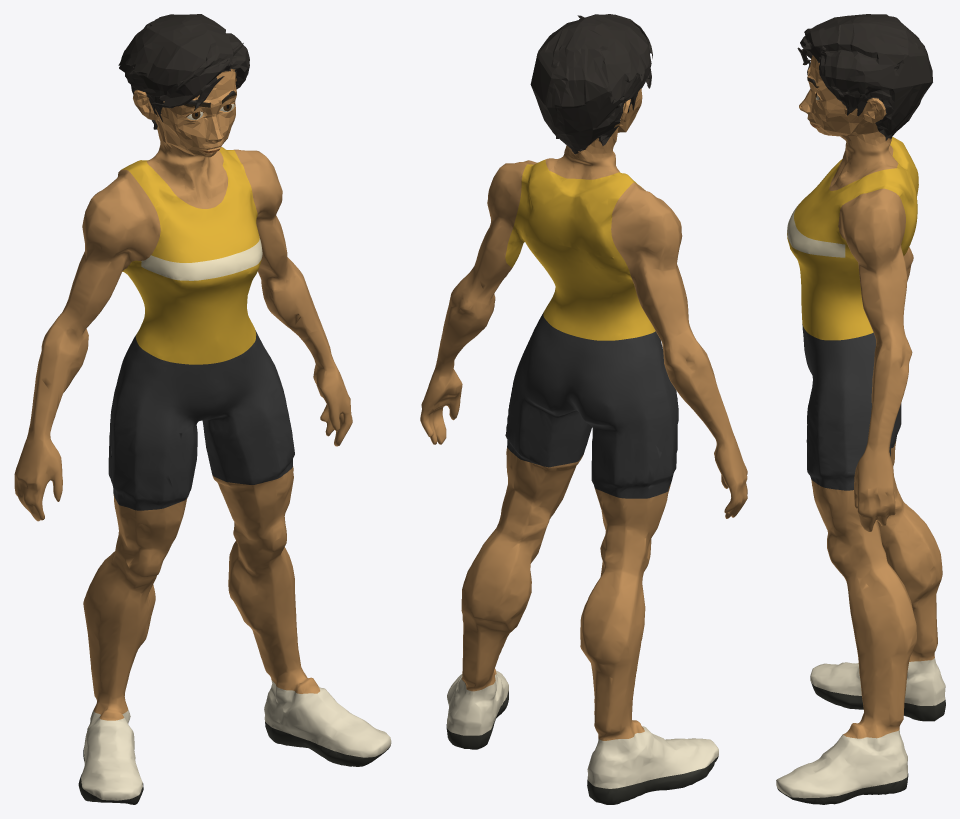
File: standing.glb
3 views of the same model, side by side, from view 1: azimuth 30°, elevation 25°; view 2: azimuth 150°, elevation 25°; view 3: azimuth 270°, elevation 25° (orthographic). The views are drawn at different scales.
Parts seen in each view (by area): view 1: Skin, Charcoal shorts, Mustard singlet, Ivory shoes, Swept black hair, Cream stripe, Shoe soles; view 2: Skin, Charcoal shorts, Mustard singlet, Swept black hair, Ivory shoes, Shoe soles; view 3: Skin, Mustard singlet, Swept black hair, Charcoal shorts, Ivory shoes, Shoe soles, Cream stripe.
Part boxes in pixels (box(x1,y1,x2,y2)): Skin: box(14, 69, 352, 720); Charcoal shorts: box(108, 330, 294, 510); Mustard singlet: box(121, 147, 261, 364); Ivory shoes: box(81, 680, 391, 800); Swept black hair: box(118, 14, 249, 129); Cream stripe: box(141, 236, 262, 280); Shoe soles: box(78, 722, 389, 804); Skin: box(420, 88, 747, 740); Charcoal shorts: box(505, 312, 678, 498); Mustard singlet: box(505, 159, 655, 340); Swept black hair: box(530, 14, 652, 154); Ivory shoes: box(447, 670, 718, 788); Shoe soles: box(446, 691, 718, 804); Skin: box(799, 55, 942, 738); Mustard singlet: box(787, 137, 918, 340); Swept black hair: box(797, 14, 932, 140); Charcoal shorts: box(802, 324, 901, 490); Ivory shoes: box(776, 658, 945, 798); Shoe soles: box(777, 682, 945, 804); Cream stripe: box(787, 206, 845, 257).
Bounding box in the file's own units: 0.4545 × 0.9968 × 0.2132.
